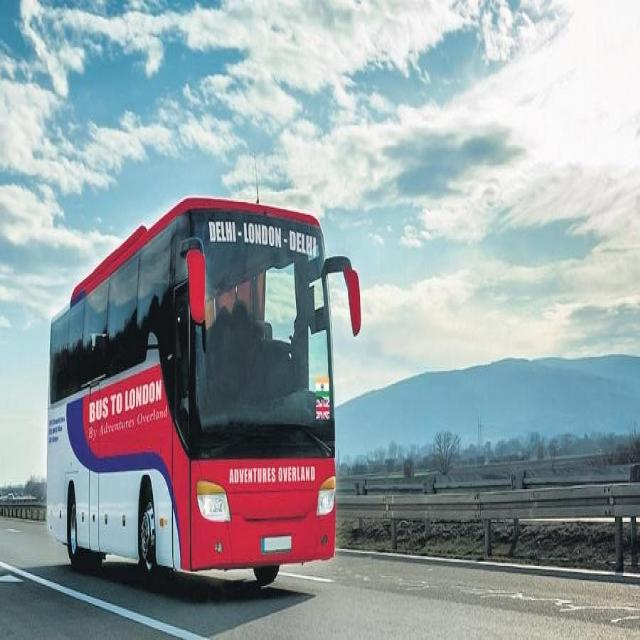BUS: (37, 161, 366, 627)
